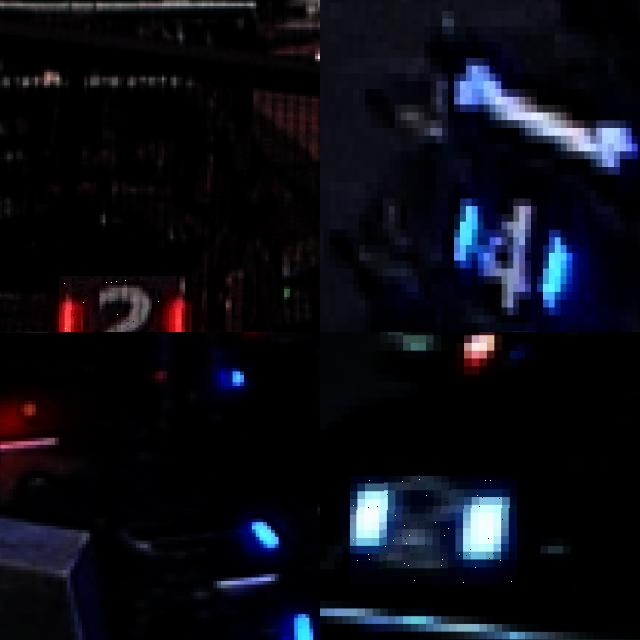B1: (240, 474, 320, 562)
B4: (434, 171, 576, 319)
Bs: (350, 476, 517, 585)
R2: (59, 275, 185, 332)
